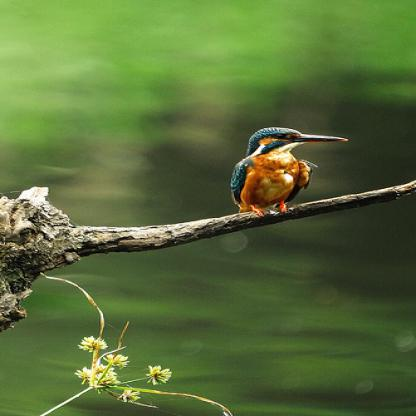bird: (225, 125, 351, 218)
